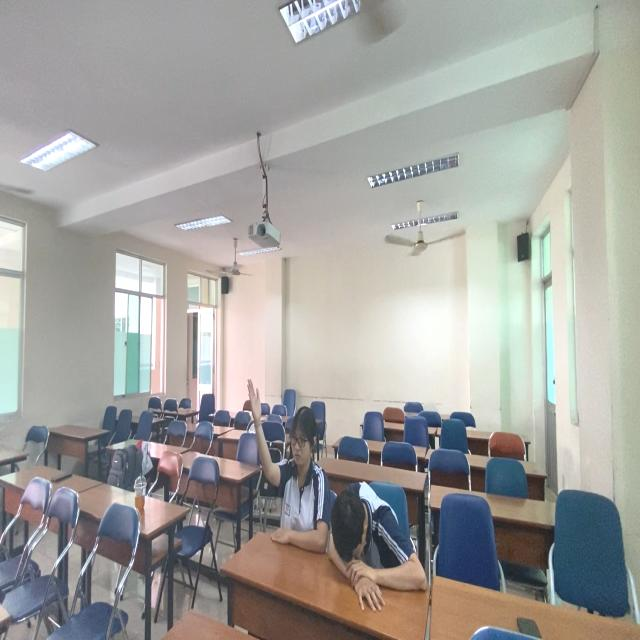raise_hand: (246, 376, 326, 532)
sleep: (330, 476, 428, 598)
